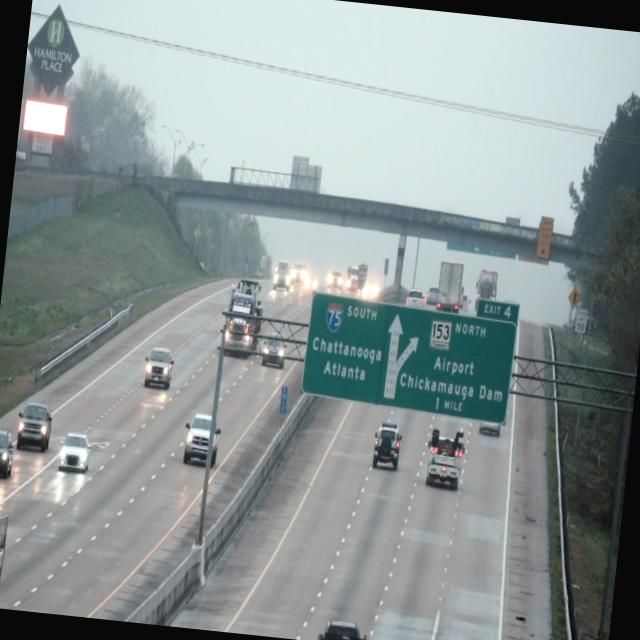Vehicle: (223, 276, 264, 360), (423, 426, 467, 496), (12, 397, 58, 452), (181, 408, 223, 468), (138, 344, 178, 396), (56, 429, 95, 476), (370, 422, 404, 472), (316, 612, 375, 640), (0, 498, 11, 608), (262, 331, 288, 370), (0, 424, 18, 478)
